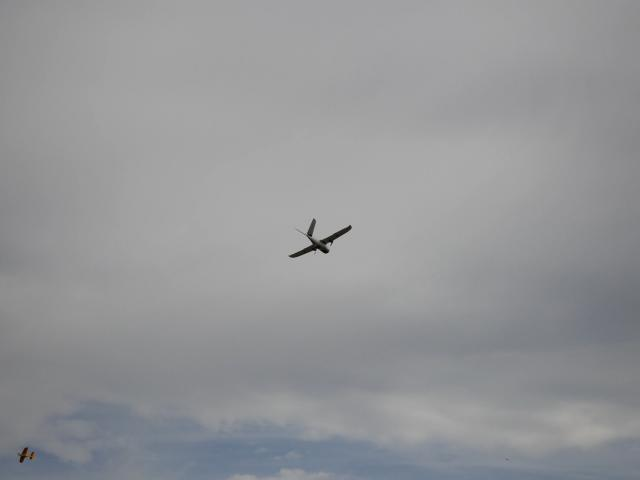plane: (287, 217, 352, 263)
